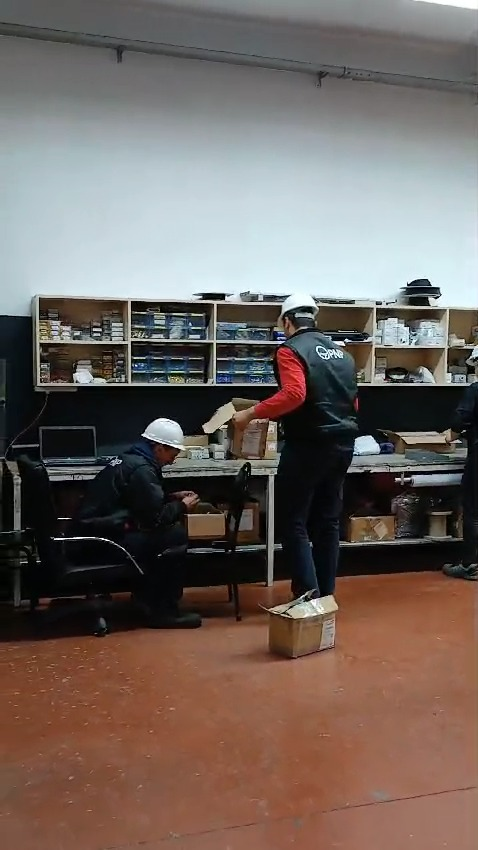safety_helmet: (140, 417, 186, 452), (278, 292, 320, 321)
